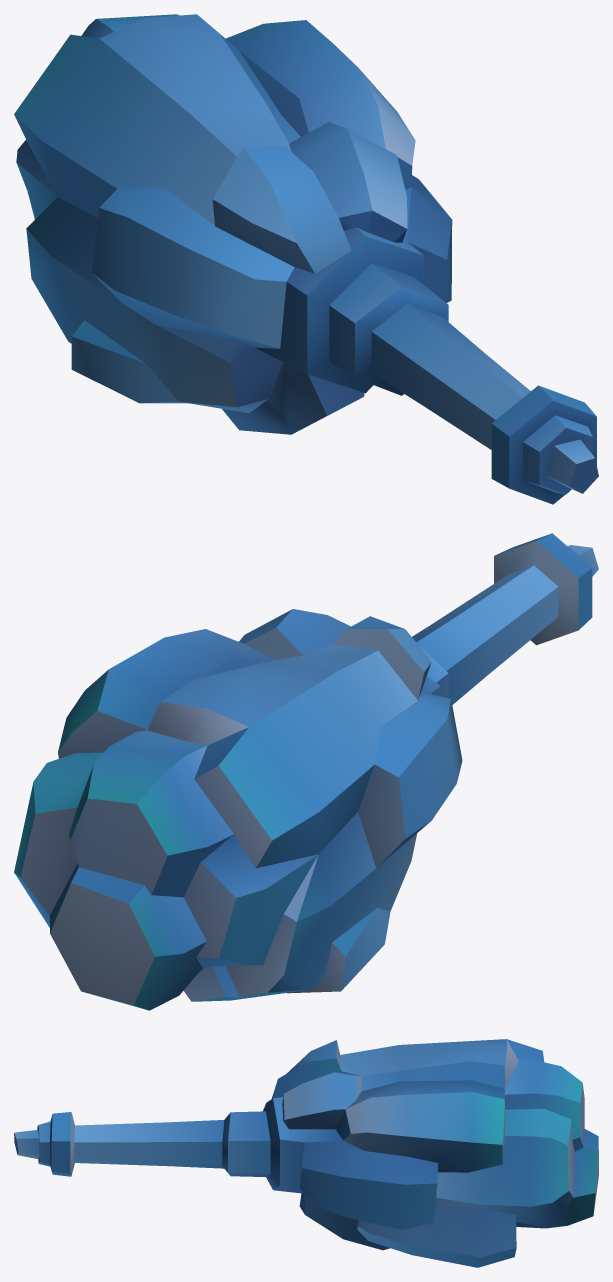
The model's file is Melee_Iceclub.fbx.
The picture shows the model from 3 angles, top to bottom: view 1: azimuth 30°, elevation 25°; view 2: azimuth 150°, elevation 25°; view 3: azimuth 270°, elevation 25°; orthographic projection. The views are drawn at different scales.
Visible parts, largest first — view 1: Melee_Iceclub; view 2: Melee_Iceclub; view 3: Melee_Iceclub.
Part boxes in pixels (bbox=[...]): Melee_Iceclub: bbox=[14, 14, 598, 504]; Melee_Iceclub: bbox=[14, 533, 598, 1010]; Melee_Iceclub: bbox=[14, 1039, 598, 1267].
Bounding box in the file's own units: 0.4121 × 0.4179 × 1.11.
